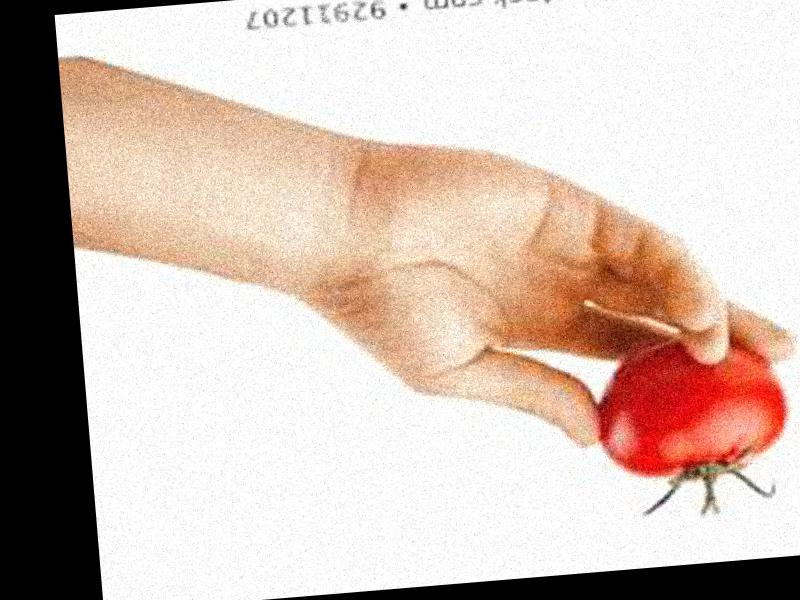Tomato: (590, 329, 793, 483)
